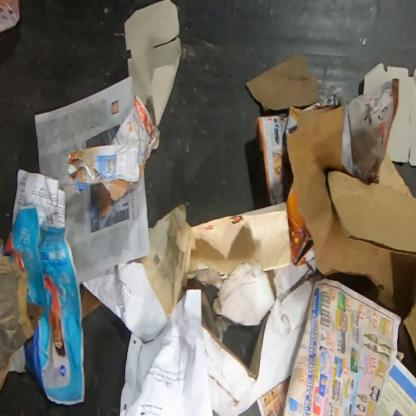cardboard: (286, 106, 396, 310), (202, 280, 314, 416), (327, 153, 416, 256), (124, 0, 182, 127), (362, 62, 415, 168), (246, 53, 318, 111), (402, 301, 416, 356)
